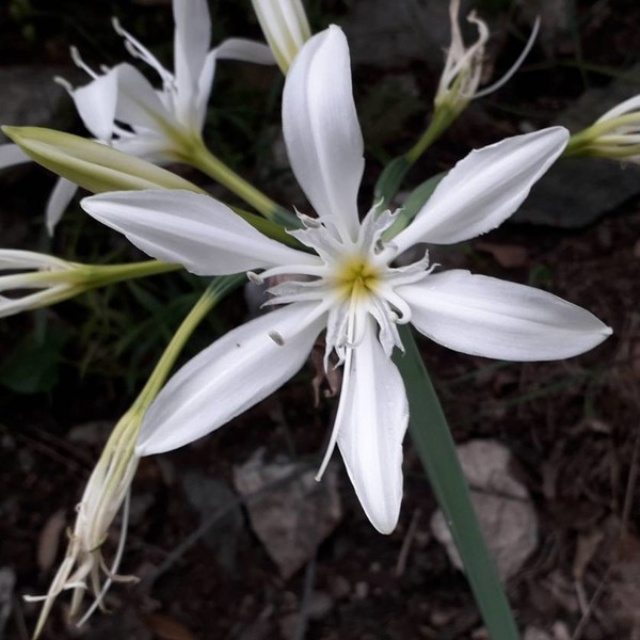obstacle: (100, 43, 558, 522)
